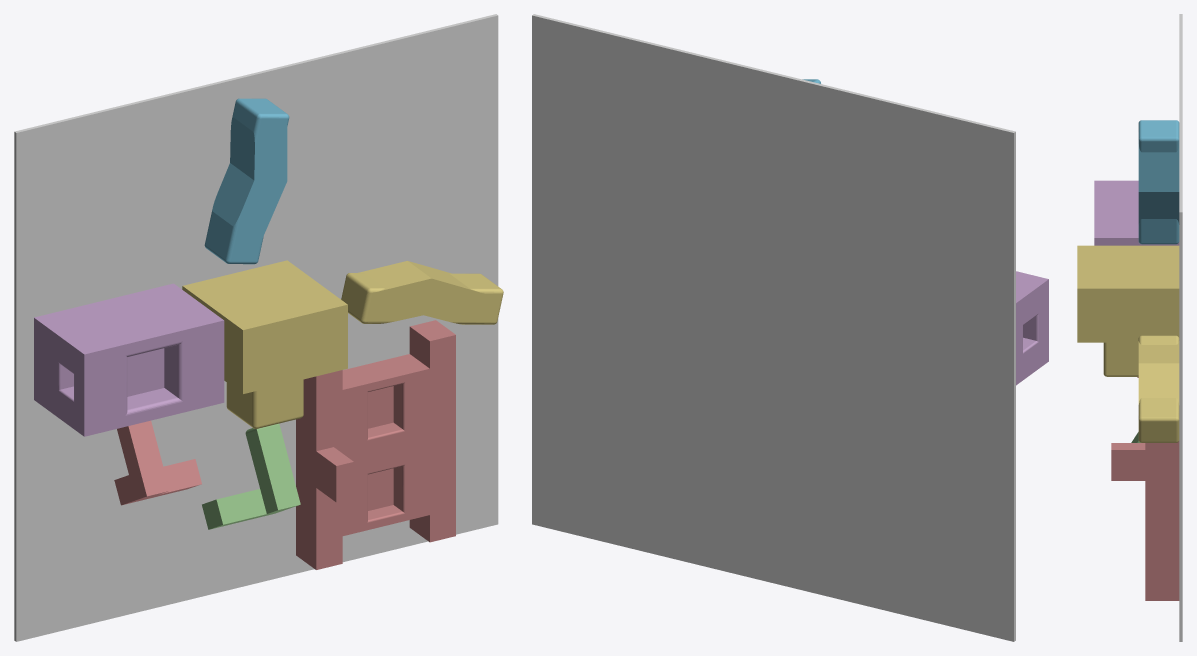
Rendered from pickup_layout.glb.
3 views of the same model, side by side, from view 1: azimuth 30°, elevation 25°; view 2: azimuth 150°, elevation 25°; view 3: azimuth 270°, elevation 25° (orthographic). The views are drawn at different scales.
Visible parts, largest first — view 1: world, 0.obj, 3.obj, 6.obj, 2.obj, 1.obj, 4.obj, 5.obj; view 2: world, 3.obj; view 3: 6.obj, 0.obj, 2.obj, 1.obj, 3.obj, world.
Part boxes in pixels (x1,y1,x2,y2): world: [14, 14, 498, 641]; 0.obj: [296, 320, 455, 569]; 3.obj: [34, 283, 224, 436]; 6.obj: [182, 260, 347, 428]; 2.obj: [204, 98, 289, 264]; 1.obj: [341, 261, 503, 324]; 4.obj: [202, 423, 300, 529]; 5.obj: [114, 420, 201, 505]; world: [532, 14, 1015, 641]; 3.obj: [1016, 271, 1048, 385]; 6.obj: [1077, 245, 1179, 376]; 0.obj: [1111, 441, 1179, 600]; 2.obj: [1138, 120, 1179, 244]; 1.obj: [1138, 335, 1179, 442]; 3.obj: [1094, 180, 1179, 245]; world: [1179, 14, 1182, 641].
Size of the model in its own units: 27.57 by 27.82 by 6.2.
